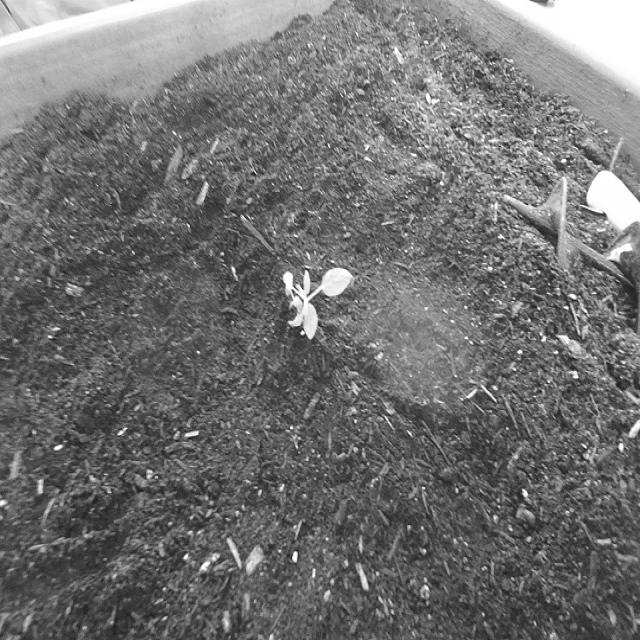Healthy: (276, 257, 358, 358)
